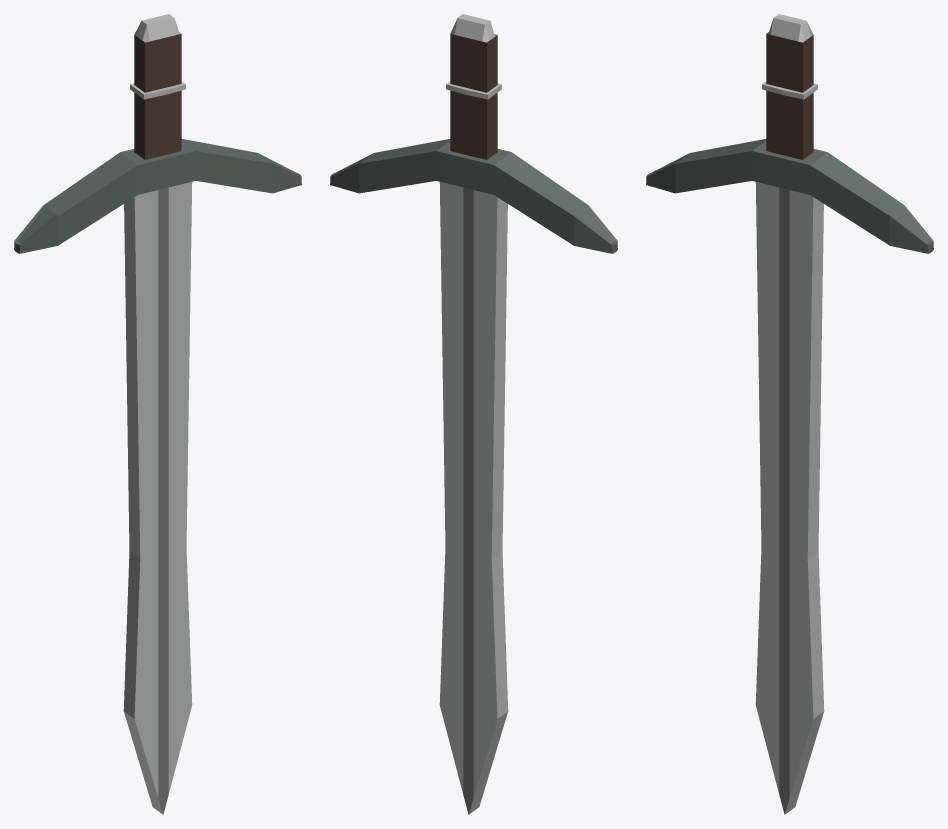
Rendered from Sword (1).fbx.
3 renders of one model, left to right at view 1: azimuth 30°, elevation 25°; view 2: azimuth 150°, elevation 25°; view 3: azimuth 330°, elevation 25°, orthographic.
Parts seen in each view (by area): view 1: Cube.011; view 2: Cube.011; view 3: Cube.011.
Boxes of the visible parts, <box> form: Cube.011: <box>14,14,301,814</box>; Cube.011: <box>330,14,617,814</box>; Cube.011: <box>646,14,933,814</box>.
Size of the model in its own units: 65.93 by 176 by 7.14.
1 material, 1 textured.
